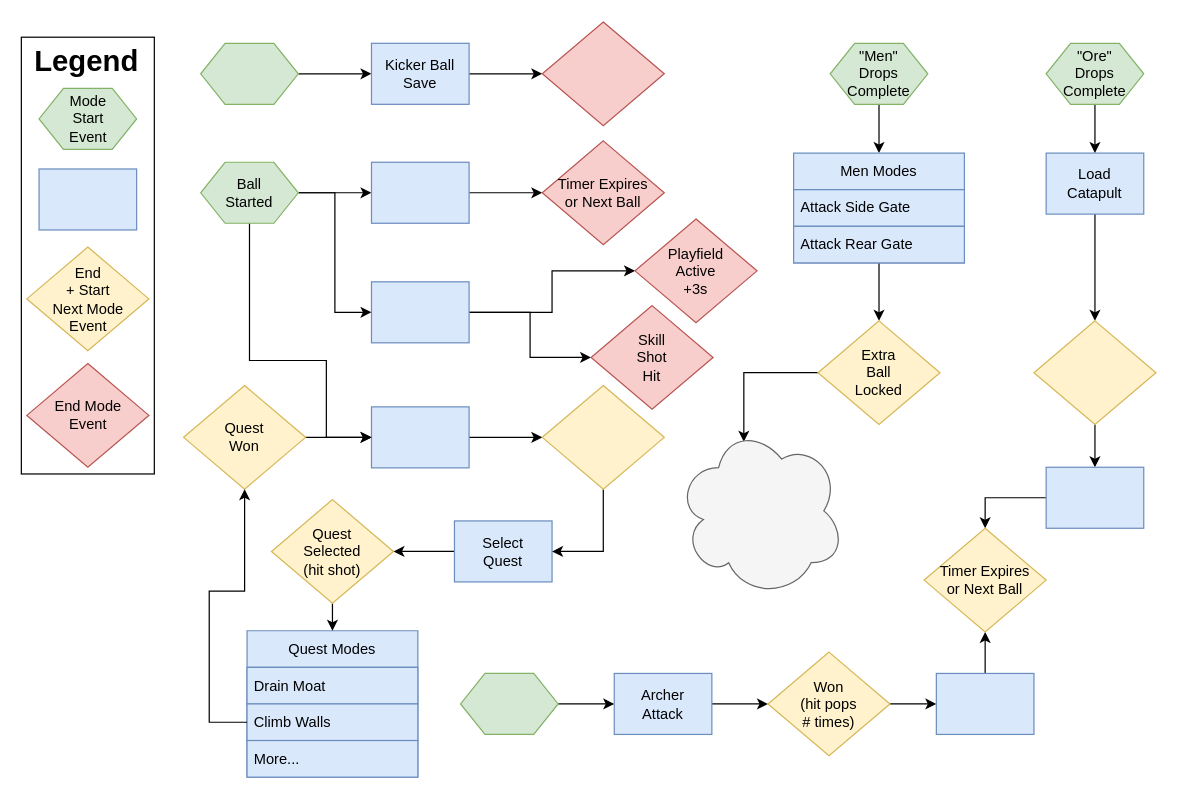
Some shapes in this 1177 by 798 pixel diagram are drawn without their labels. The shapes that lost their labels are listed below. From the top down, each one's centre as x and y in pixels, then its label:
the point at 248,73: "Save" Lanes Lit
the point at 602,73: Ball Saved
the point at 87,199: Mode
the point at 419,192: Quick Death Ball Save
the point at 419,312: Skill Shot
the point at 1094,372: 3 Balls Locked
the point at 419,437: Qualify For Select Quest
the point at 602,436: Qualified (hit front gate)
the point at 760,510: Ball Ejects On Last Ball Drain or if Needed for Multiball
the point at 1094,497: Catapult Attack (multiball)
the point at 508,703: "Wall" Lanes Lit
the point at 984,703: Massive Archer Attack (multiball)
